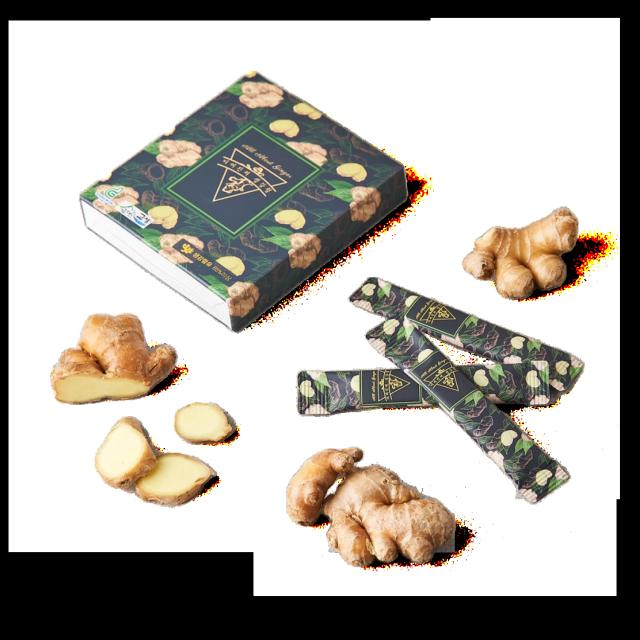ginger: (273, 442, 475, 571), (94, 414, 236, 520), (50, 299, 180, 412), (456, 210, 590, 305)
